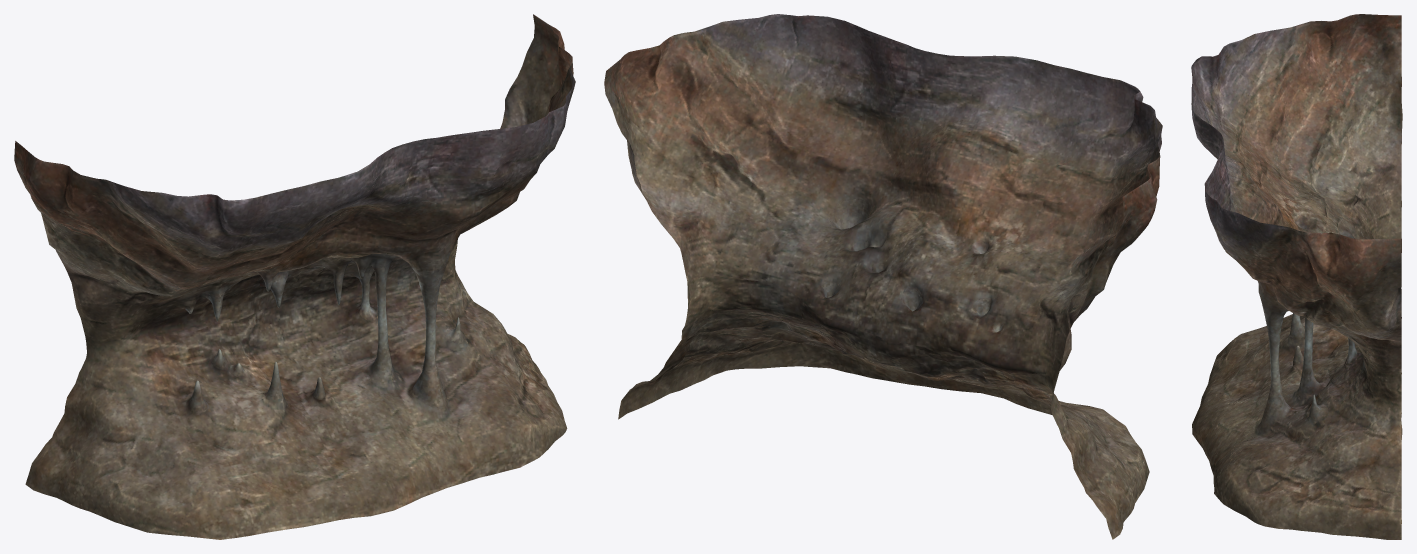
The model's file is cave_strip_dripstone_01.DAE.
The picture shows the model from 3 angles, left to right: view 1: azimuth 30°, elevation 25°; view 2: azimuth 150°, elevation 25°; view 3: azimuth 270°, elevation 25°; orthographic projection. The views are drawn at different scales.
Visible parts, largest first — view 1: cave_strip_dripstone_01; view 2: cave_strip_dripstone_01; view 3: cave_strip_dripstone_01.
Boxes of the visible parts, <box> form: cave_strip_dripstone_01: <box>14,14,575,539</box>; cave_strip_dripstone_01: <box>604,14,1162,539</box>; cave_strip_dripstone_01: <box>1191,14,1402,539</box>.
Size of what is drawn, in the model's own units: 5.5 by 3.41 by 2.13.
